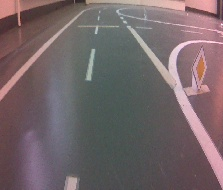priority road sign: (189, 44, 209, 90)
